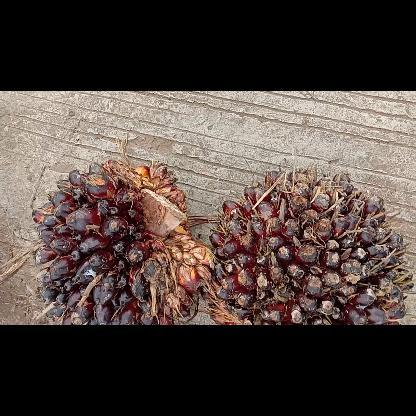TBS mentah: (200, 164, 414, 324), (30, 158, 220, 324)
